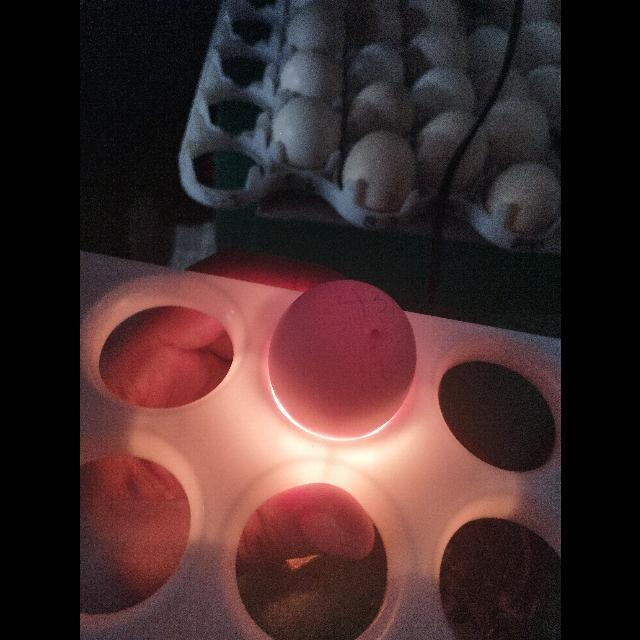Fertile: (264, 276, 422, 444)
